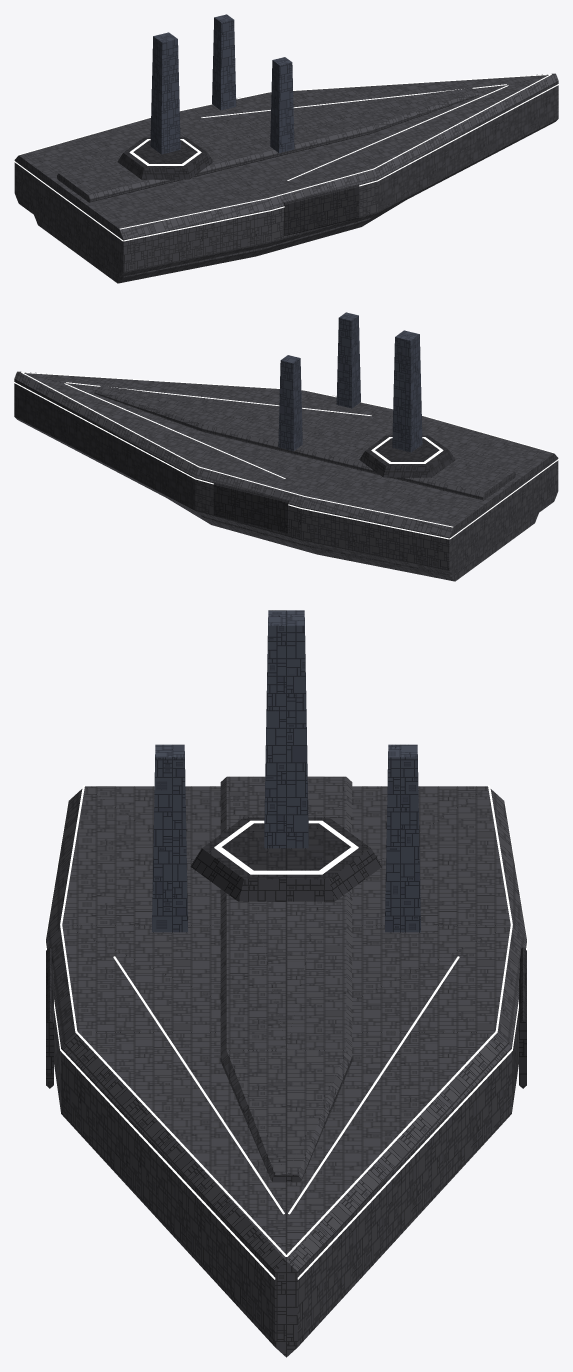
Rendered from tech_lod2.glb.
The picture shows the model from 3 angles, top to bottom: view 1: azimuth 30°, elevation 25°; view 2: azimuth 150°, elevation 25°; view 3: azimuth 270°, elevation 25°; orthographic projection. The views are drawn at different scales.
Parts seen in each view (by area): view 1: tech_lod2_body, tech_lod2_glow; view 2: tech_lod2_body, tech_lod2_glow; view 3: tech_lod2_body, tech_lod2_glow.
Part boxes in pixels (left/top/right/bottom): tech_lod2_body: left=14, top=14, right=558, bottom=283; tech_lod2_glow: left=14, top=74, right=558, bottom=241; tech_lod2_body: left=14, top=312, right=558, bottom=581; tech_lod2_glow: left=14, top=372, right=558, bottom=539; tech_lod2_body: left=46, top=610, right=526, bottom=1357; tech_lod2_glow: left=45, top=785, right=527, bottom=1279.
Bounding box in the file's own units: 22.23 × 8.97 × 9.54.
Materials: 2 (1 with a texture image).
